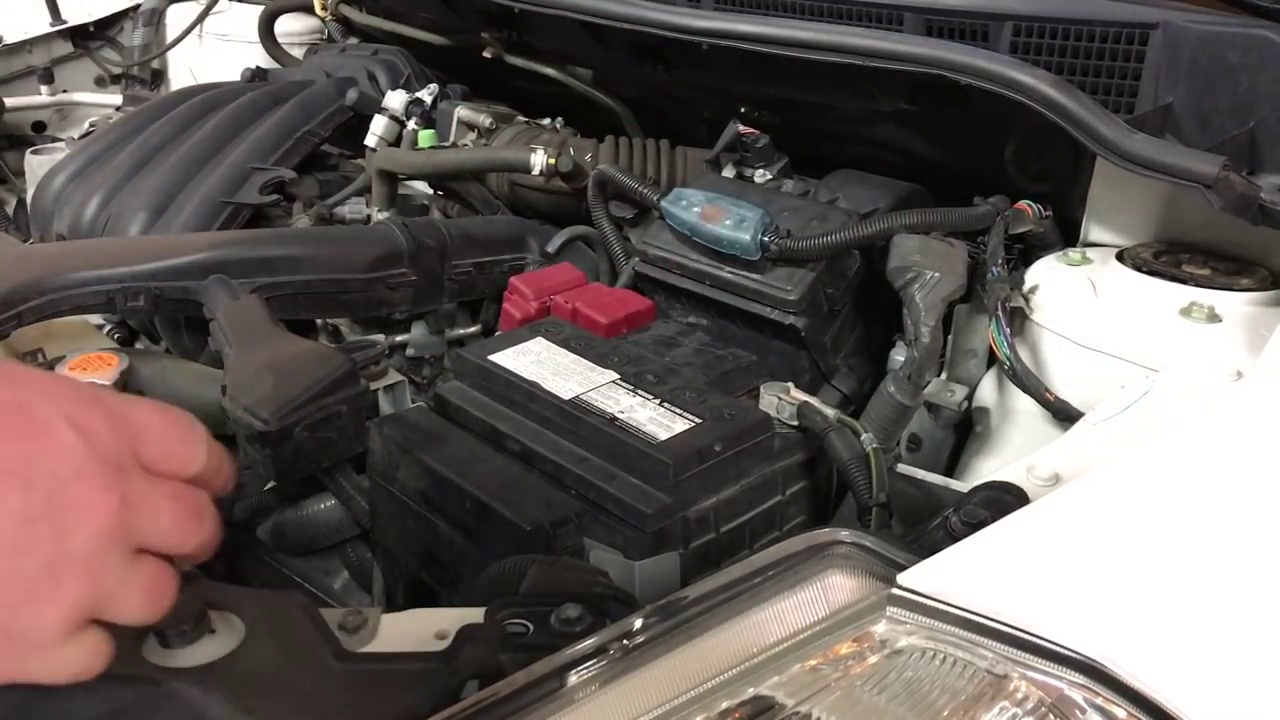battery: (450, 277, 819, 490)
neg_connected: (733, 361, 844, 454)
pos_connected: (483, 263, 684, 362)
